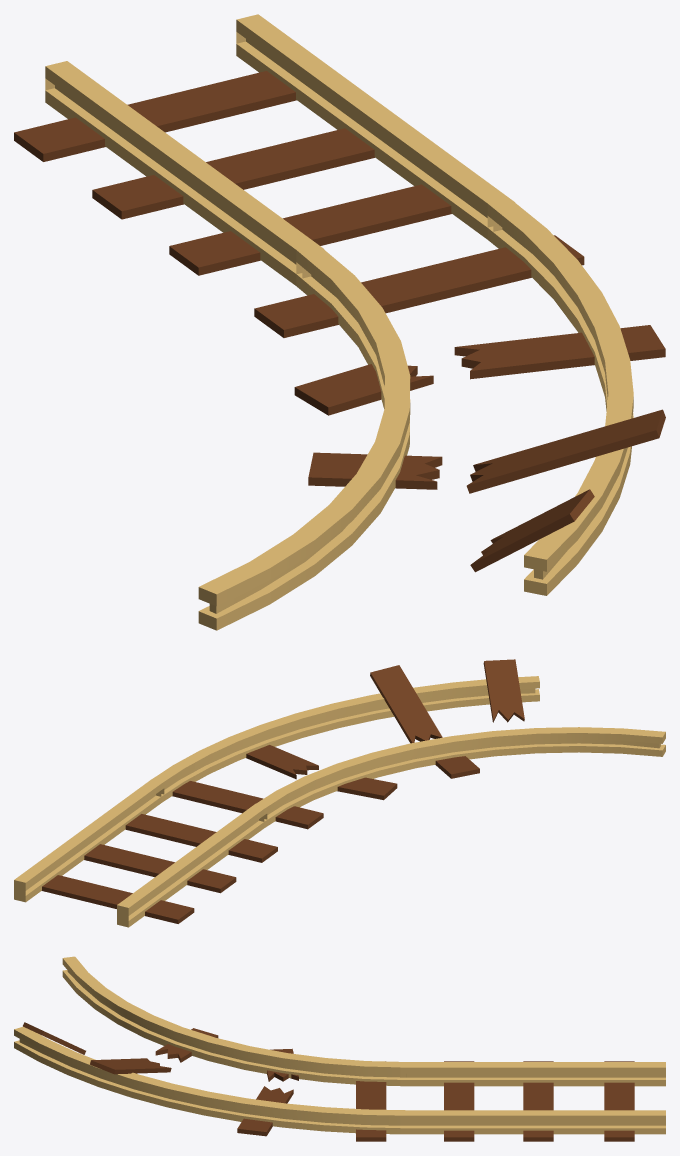
File: rail.FBX
3 views of the same model, one above another, from view 1: azimuth 30°, elevation 25°; view 2: azimuth 150°, elevation 25°; view 3: azimuth 270°, elevation 25° (orthographic). The views are drawn at different scales.
Visible parts, largest first — view 1: Box055, Box060; view 2: Box055, Box060; view 3: Box055, Box060.
Part boxes in pixels (<box>): Box055: <box>45,14,633,630</box>; Box060: <box>14,71,665,572</box>; Box055: <box>14,676,665,927</box>; Box060: <box>42,659,524,923</box>; Box055: <box>14,956,665,1134</box>; Box060: <box>23,1022,634,1141</box>.
Bounding box in the file's own units: 341 × 37.51 × 567.
